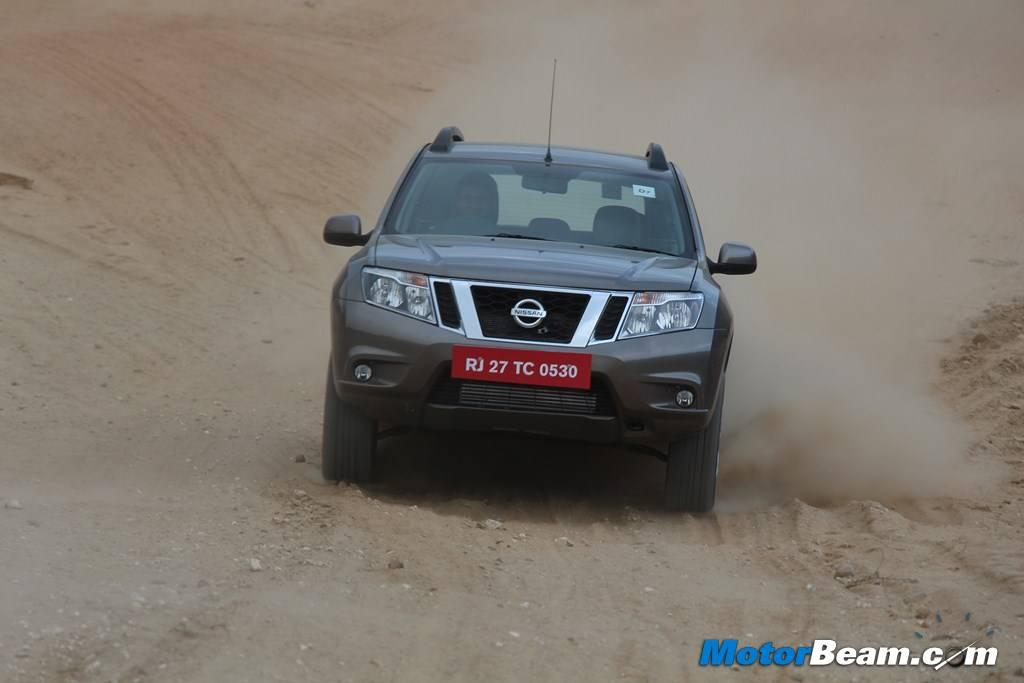License-Plate: (456, 339, 591, 395)
